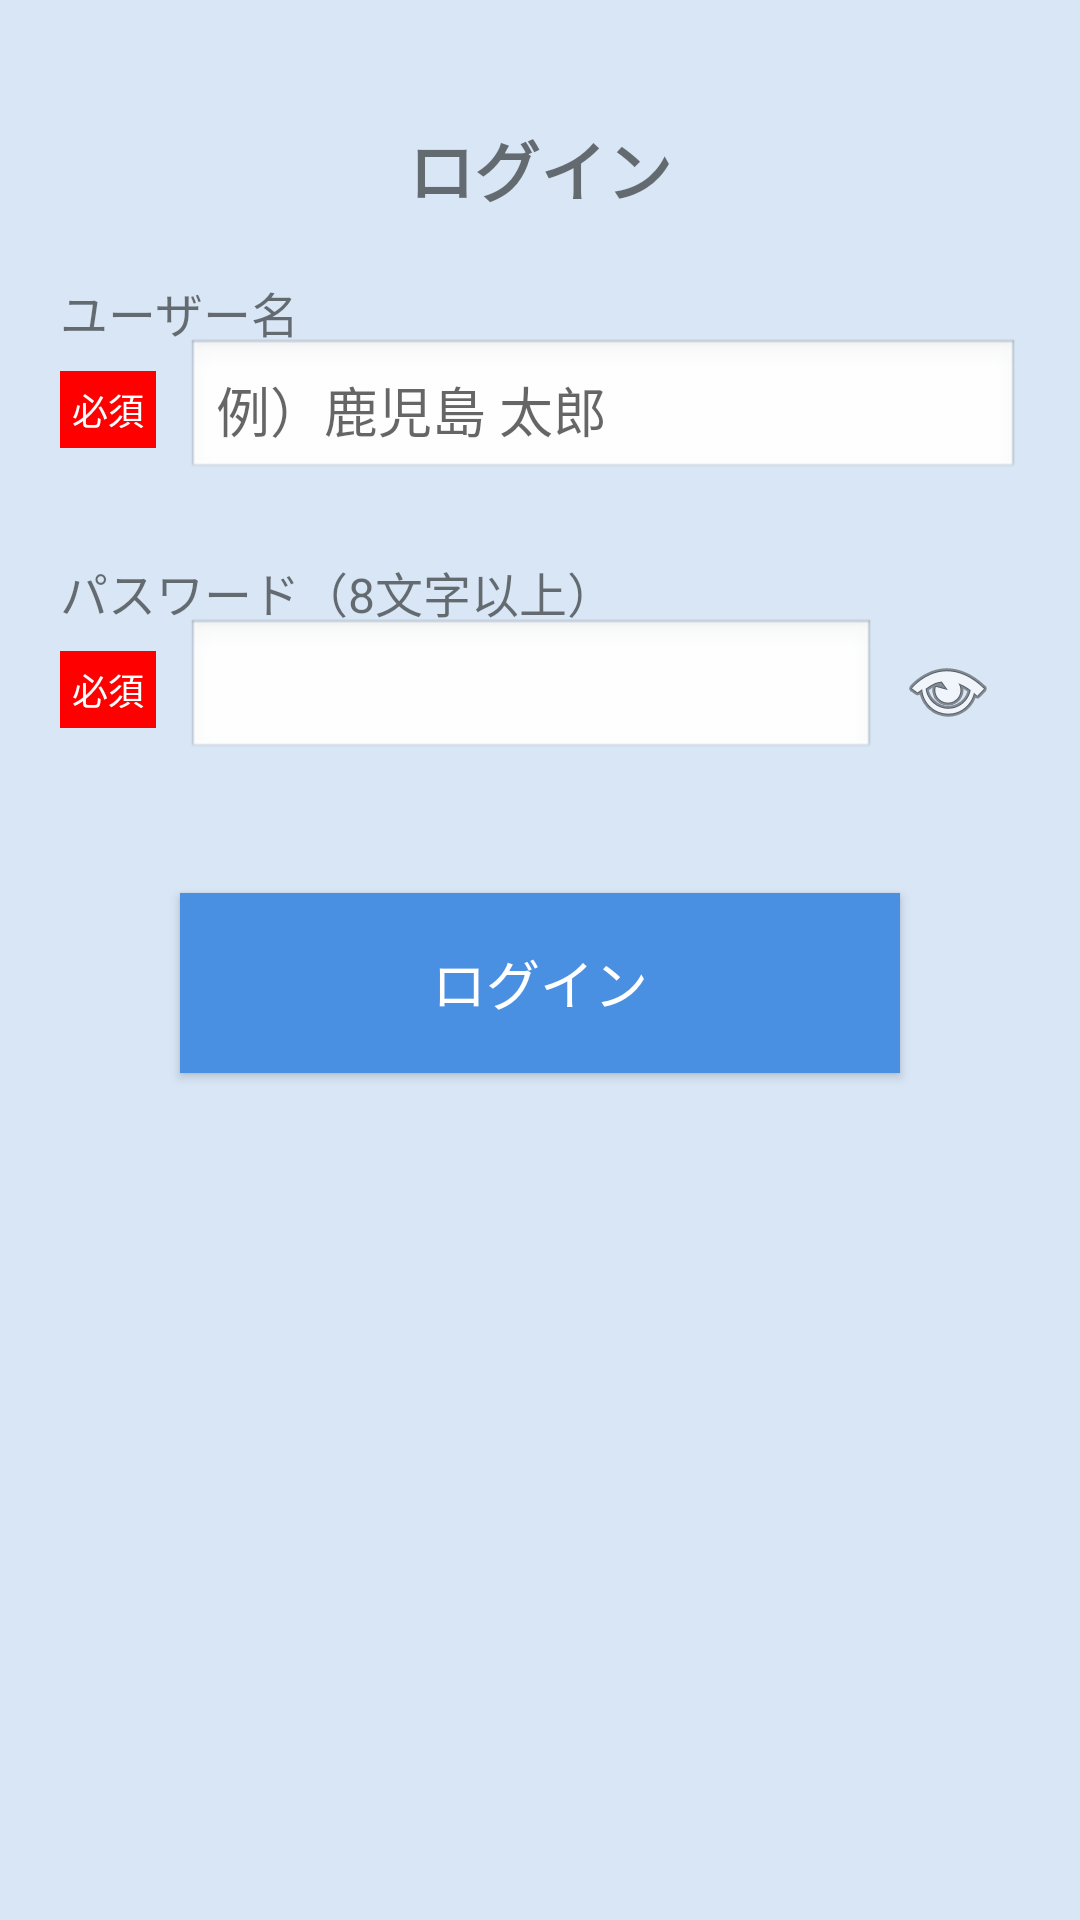

Icons on this 1080×1920 Android screen, each with the point to tap as (x=x, y=y):
view: (x=948, y=692)
